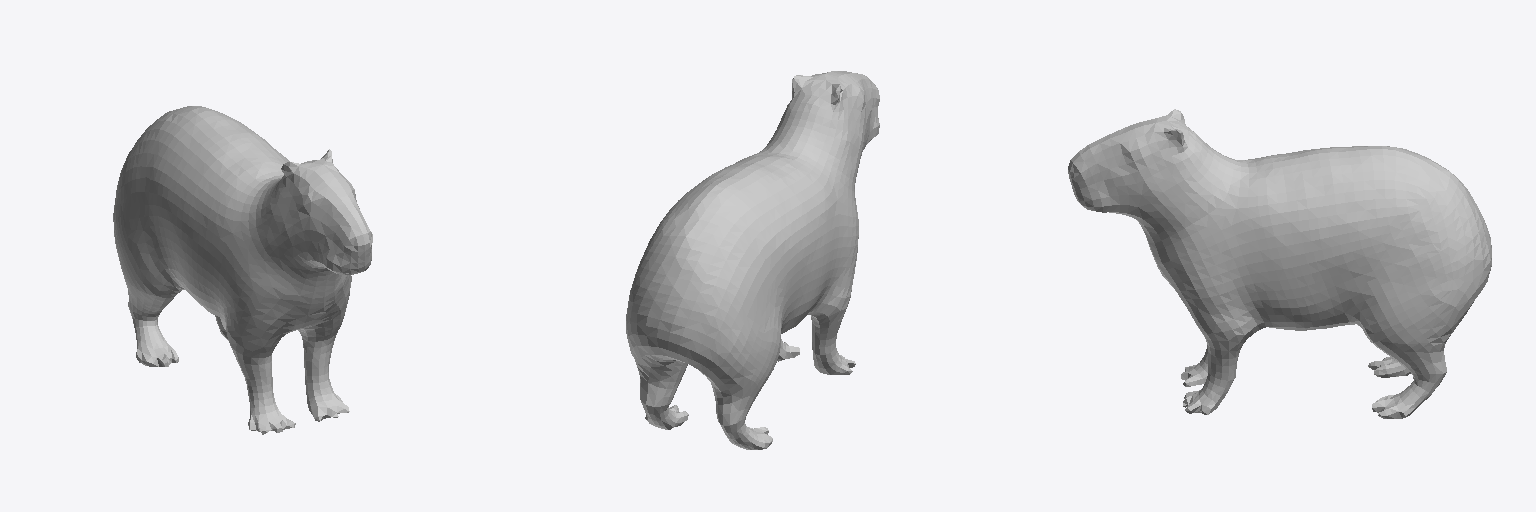
File: capybara.obj
The picture shows the model from 3 angles: view 1: azimuth 30°, elevation 25°; view 2: azimuth 150°, elevation 25°; view 3: azimuth 270°, elevation 25°; orthographic projection.
Visible parts, largest first — view 1: Capybara_mesh_Capybara_mat_0; view 2: Capybara_mesh_Capybara_mat_0; view 3: Capybara_mesh_Capybara_mat_0.
Boxes of the visible parts, box(x1,y1,x2,y2) form: Capybara_mesh_Capybara_mat_0: box(113, 106, 372, 434); Capybara_mesh_Capybara_mat_0: box(626, 71, 879, 449); Capybara_mesh_Capybara_mat_0: box(1068, 109, 1491, 418).
Bounding box in the file's own units: 0.3071 × 0.6295 × 0.8801.